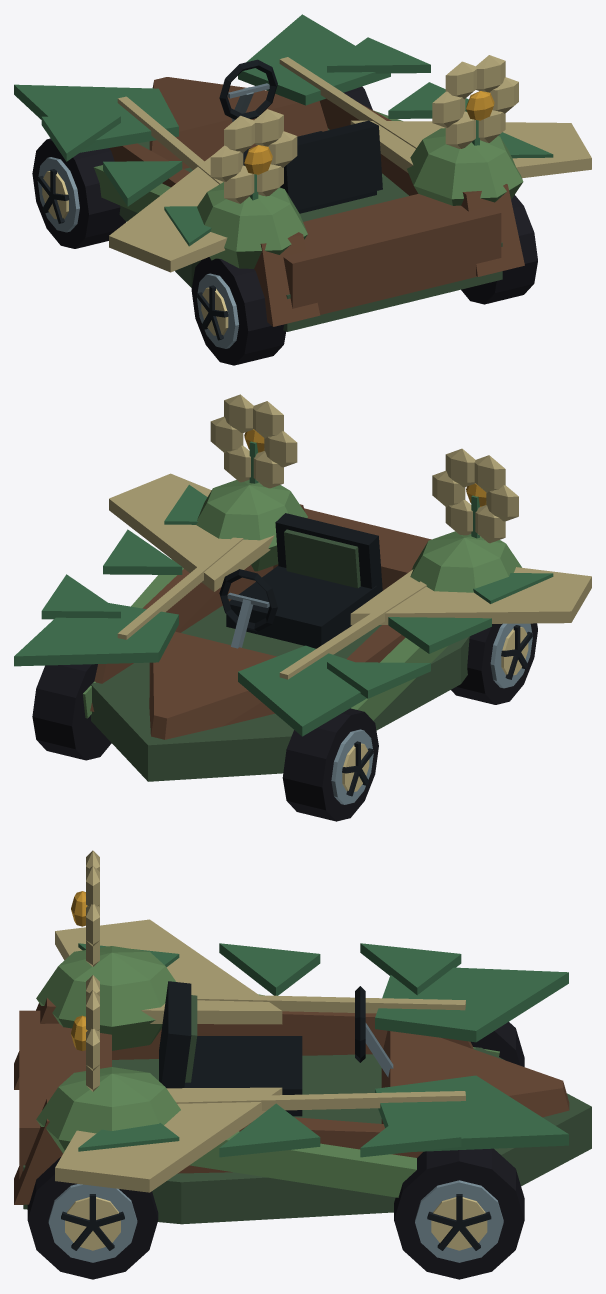
File: kart.glb
3 views of the same model, one above another, from view 1: azimuth 30°, elevation 25°; view 2: azimuth 150°, elevation 25°; view 3: azimuth 270°, elevation 25° (orthographic). The views are drawn at different scales.
Parts seen in each view (by area): view 1: identity-nature-nature-root-cradle-and-leaf-bow, identity-nature-motif-flowers, identity-nature-motif-wings, identity-nature-motif-leaves, identity-nature-driver-cockpit, wheel-rear-left, wheel-front-left, wheel-rear-right; view 2: identity-nature-nature-root-cradle-and-leaf-bow, identity-nature-driver-cockpit, identity-nature-motif-wings, identity-nature-motif-flowers, identity-nature-motif-leaves, wheel-front-left, wheel-front-right, wheel-rear-left; view 3: identity-nature-nature-root-cradle-and-leaf-bow, identity-nature-motif-wings, identity-nature-motif-leaves, wheel-front-right, identity-nature-driver-cockpit, wheel-rear-right, identity-nature-motif-flowers, wheel-front-left.
Part boxes in pixels (x1,y1,x2,y2): identity-nature-nature-root-cradle-and-leaf-bow: [14, 14, 524, 331]; identity-nature-motif-flowers: [210, 55, 518, 203]; identity-nature-motif-wings: [109, 120, 591, 272]; identity-nature-motif-leaves: [41, 37, 553, 246]; identity-nature-driver-cockpit: [219, 59, 382, 213]; wheel-rear-left: [191, 257, 285, 365]; wheel-front-left: [32, 138, 125, 248]; wheel-rear-right: [461, 195, 537, 304]; identity-nature-nature-root-cradle-and-leaf-bow: [14, 480, 521, 781]; identity-nature-driver-cockpit: [219, 513, 382, 648]; identity-nature-motif-wings: [109, 473, 591, 625]; identity-nature-motif-flowers: [210, 394, 518, 543]; identity-nature-motif-leaves: [41, 484, 553, 698]; wheel-front-left: [282, 708, 378, 821]; wheel-front-right: [32, 664, 111, 760]; wheel-rear-left: [451, 623, 537, 704]; identity-nature-nature-root-cradle-and-leaf-bow: [14, 946, 591, 1224]; identity-nature-motif-wings: [55, 919, 282, 1192]; identity-nature-motif-leaves: [78, 943, 461, 1157]; wheel-front-right: [394, 1148, 524, 1279]; identity-nature-driver-cockpit: [159, 981, 393, 1116]; wheel-rear-right: [27, 1157, 158, 1279]; identity-nature-motif-flowers: [71, 850, 99, 1091]; wheel-front-left: [471, 1022, 524, 1066].
Bounding box in the file's own units: 2.92 × 1.46 × 2.75.
